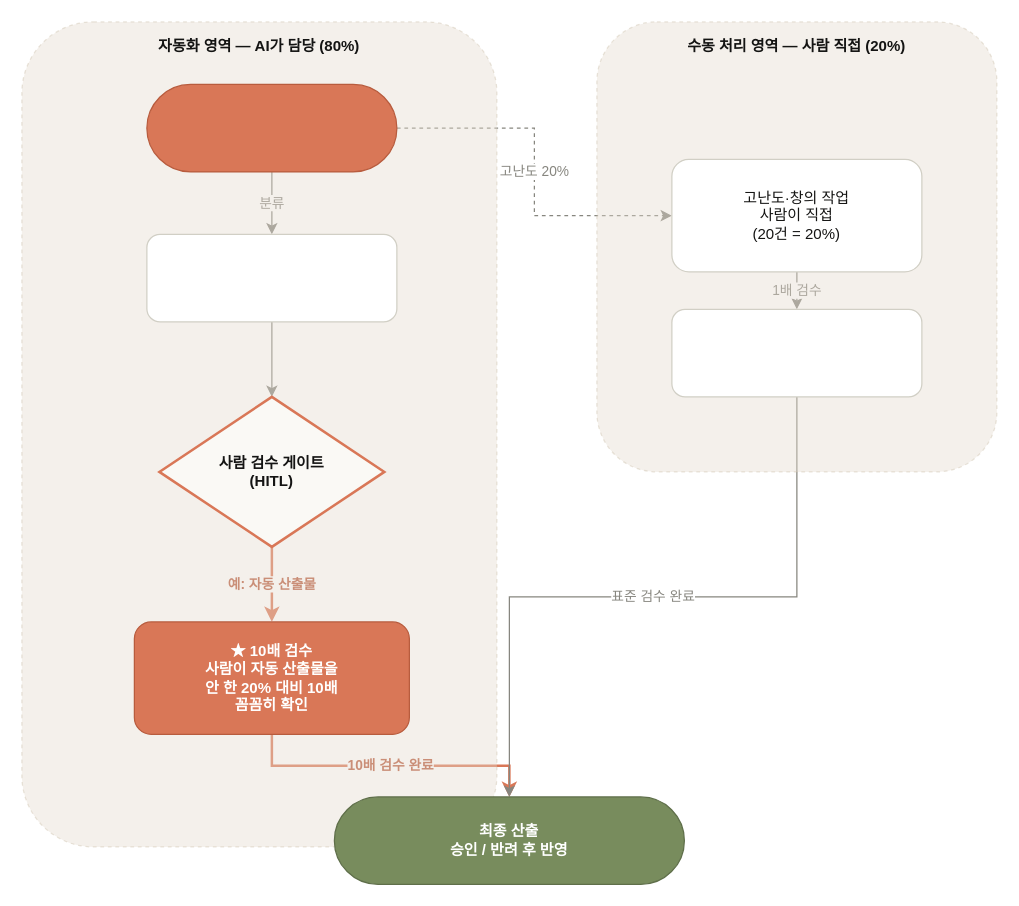
Image size: 1019x906. Some labels were removed from this diagram. Here are the shapes that lost their labels. From the top down, the centre of each, then its label:
At (x=271, y=127): "반복 업무 100건 (주문·문의·카피 초안 등)".
At (x=271, y=277): "AI 초안 자동 생성 (80건 = 80%)".
At (x=796, y=352): "표준 검수 (1배 기준선)".
